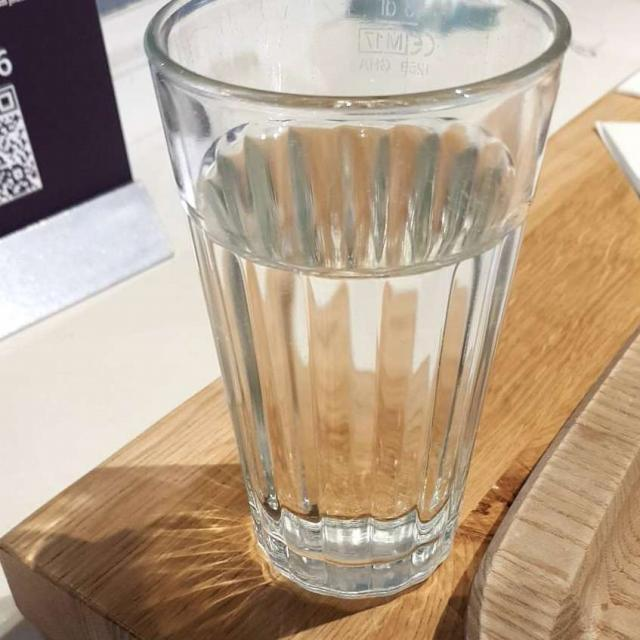water: (196, 119, 518, 551)
